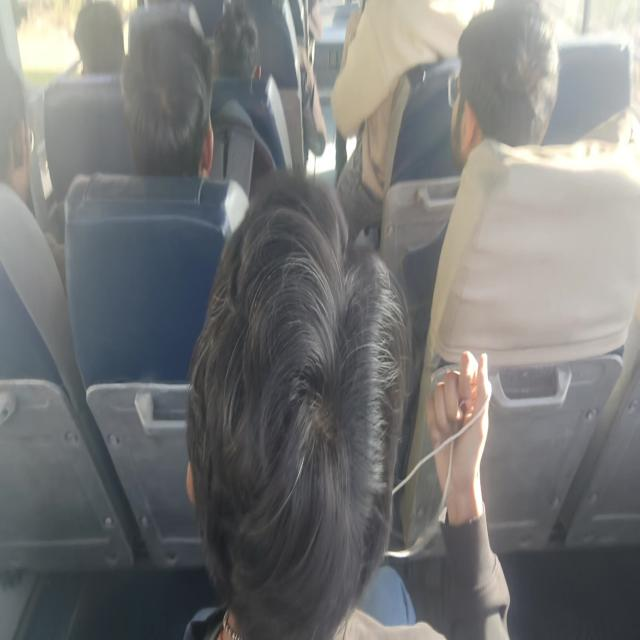person: (184, 168, 512, 638), (394, 0, 639, 536), (332, 0, 472, 240), (42, 0, 128, 204), (121, 5, 215, 178), (0, 55, 66, 293), (211, 4, 286, 172), (73, 0, 125, 76)
